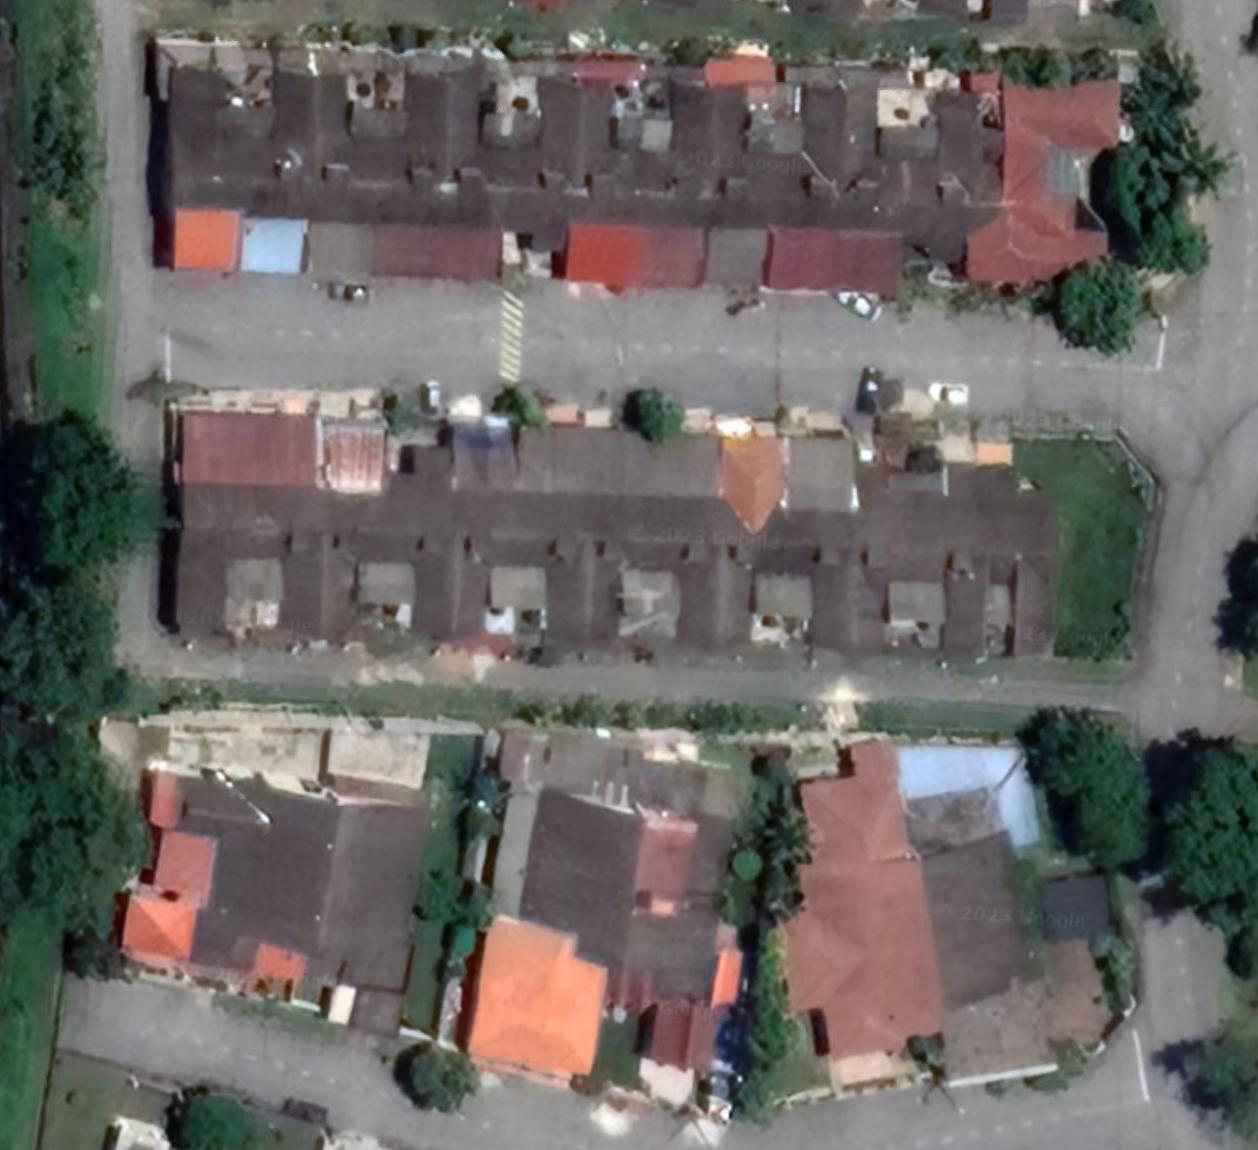building: (446, 716, 781, 1131), (98, 740, 445, 1047), (768, 726, 969, 1100), (152, 384, 333, 658), (568, 405, 731, 676), (701, 400, 858, 679), (324, 392, 473, 664), (450, 405, 601, 673), (969, 69, 1128, 296), (854, 408, 963, 670), (950, 429, 1067, 673), (147, 27, 252, 285), (910, 52, 1013, 295), (238, 31, 325, 285), (830, 46, 910, 305), (377, 39, 456, 288), (639, 44, 714, 300), (563, 43, 639, 297), (707, 46, 779, 306), (774, 50, 843, 309), (446, 46, 517, 296), (311, 35, 376, 286), (511, 47, 574, 266)
